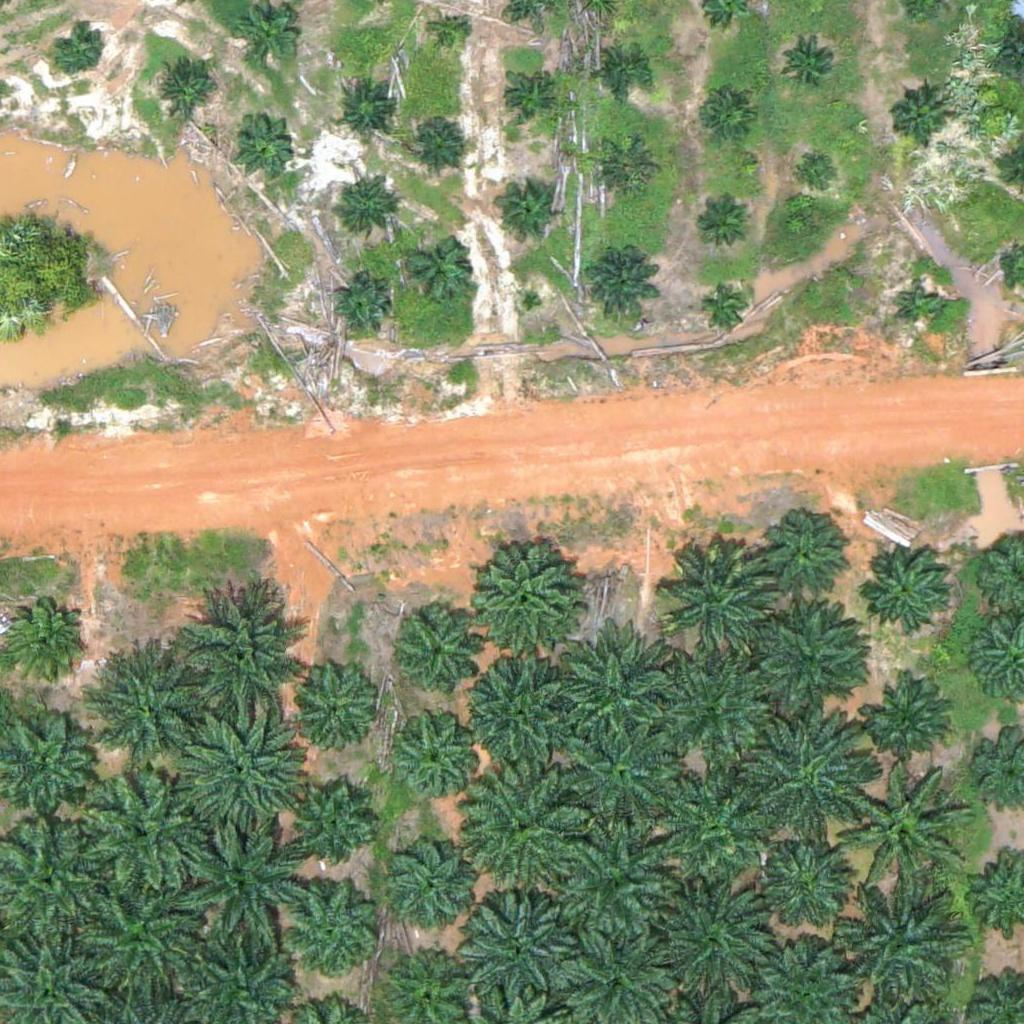Kelapa_Sawit: (658, 536, 783, 662), (650, 644, 775, 770), (655, 772, 780, 898), (655, 884, 780, 1010), (556, 821, 681, 947), (561, 713, 686, 839), (555, 633, 680, 759), (459, 653, 584, 779), (458, 882, 583, 1008), (181, 586, 306, 712), (176, 707, 301, 833), (177, 819, 302, 945), (90, 642, 215, 768), (85, 767, 210, 893), (78, 870, 203, 996), (740, 715, 865, 841), (840, 884, 965, 1010), (837, 768, 962, 894), (470, 764, 595, 889), (744, 594, 869, 719), (464, 539, 577, 653), (282, 884, 382, 985), (284, 655, 384, 755), (389, 834, 477, 922), (765, 840, 853, 928), (865, 672, 952, 761), (396, 711, 483, 799), (395, 612, 482, 700), (289, 784, 376, 872), (762, 517, 849, 605), (860, 543, 947, 631), (583, 244, 658, 320), (397, 231, 472, 307), (233, 2, 296, 65), (782, 30, 845, 93), (330, 179, 393, 242), (229, 111, 292, 174), (497, 180, 560, 243), (329, 276, 392, 339), (888, 89, 951, 152), (596, 139, 658, 202), (152, 56, 214, 119), (337, 81, 399, 143), (404, 109, 466, 171), (701, 90, 751, 141), (895, 281, 945, 332), (794, 148, 844, 199), (597, 48, 647, 98), (52, 25, 102, 75), (696, 201, 746, 251), (501, 71, 551, 121), (702, 282, 752, 332), (433, 17, 471, 55)
